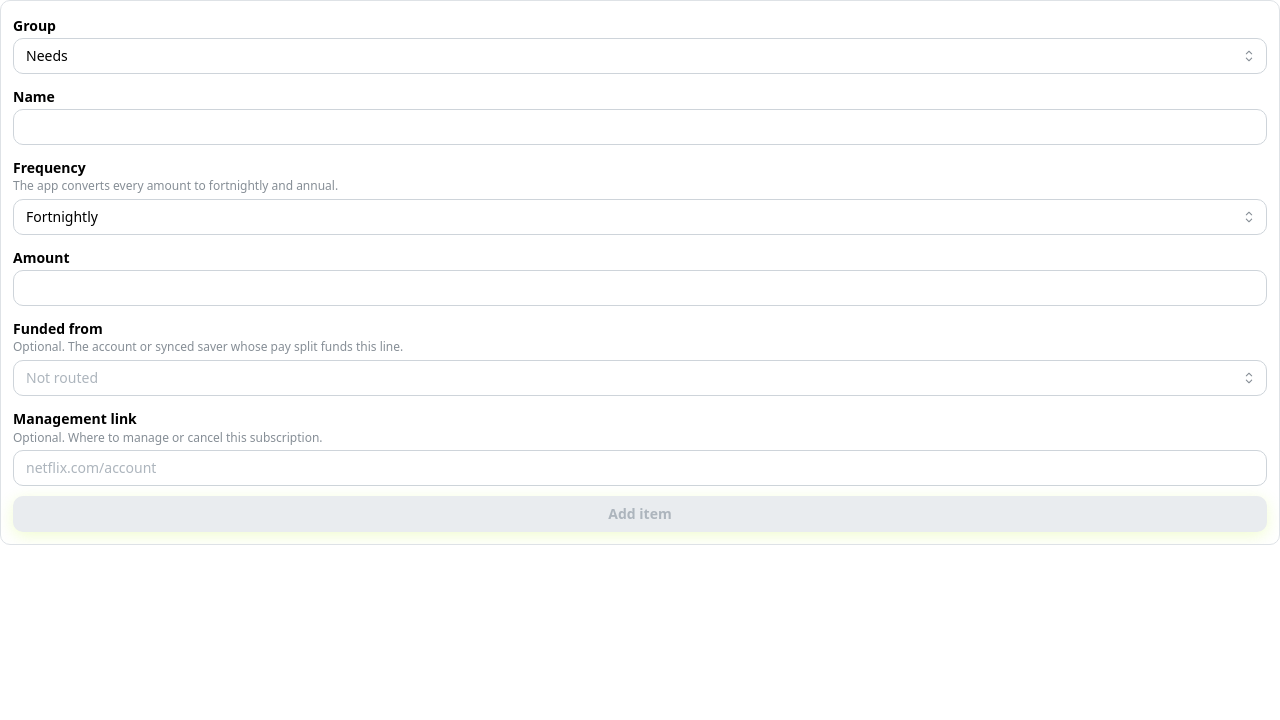
Test: BudgetLineForm › disables submit until required fields are filled
The width and height of the screenshot is (1280, 720).
Expected: the button "Add item" is disabled, left=13, top=496, right=1267, bottom=532
Type "Rent" into the field labelled "Name" at (640, 127), box left=13, top=109, right=1267, bottom=145
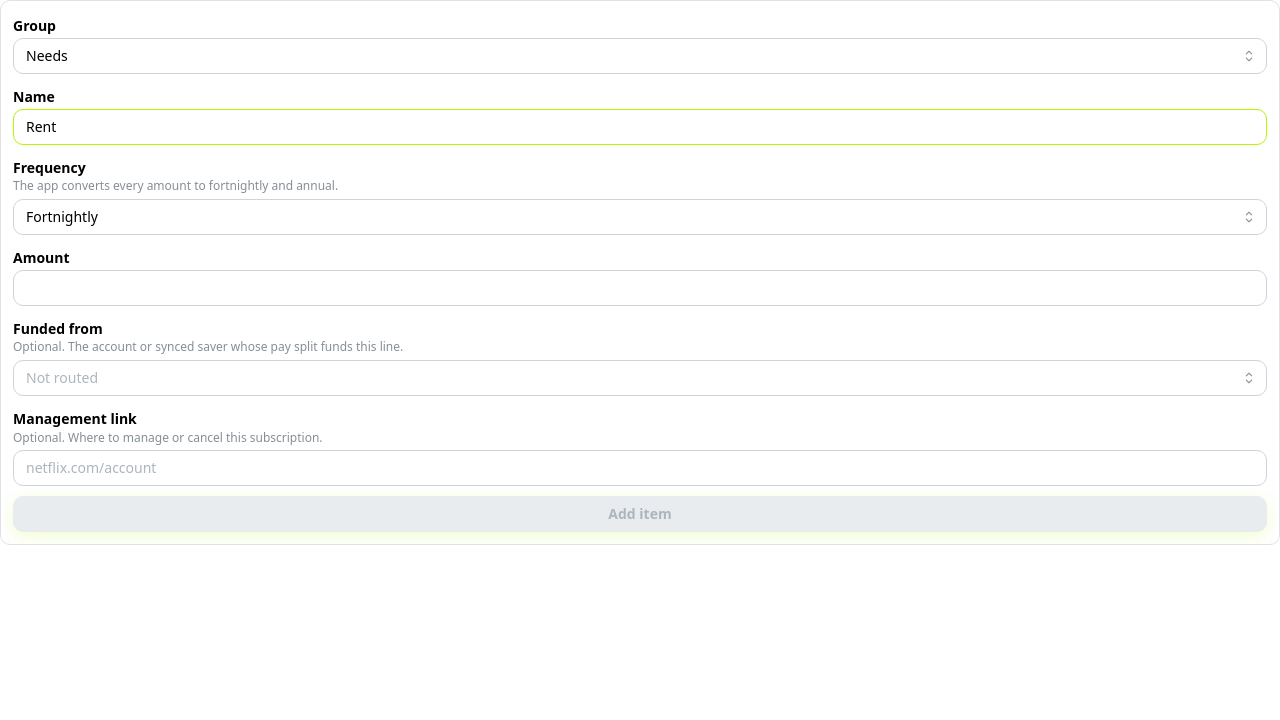
Expected: the button "Add item" is disabled, left=13, top=496, right=1267, bottom=532
Type "1000" into the field labelled "Amount" at (640, 288), box left=13, top=270, right=1267, bottom=306
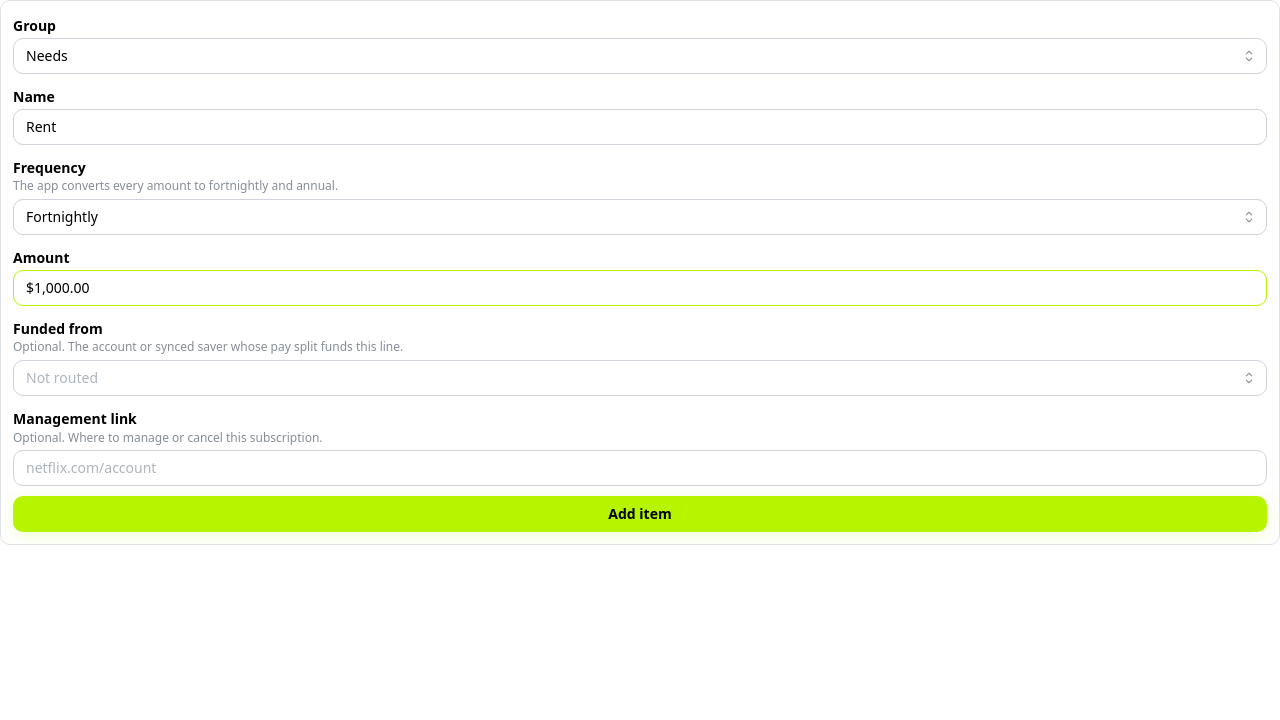
Now the button "Add item" is enabled, box left=13, top=496, right=1267, bottom=532
